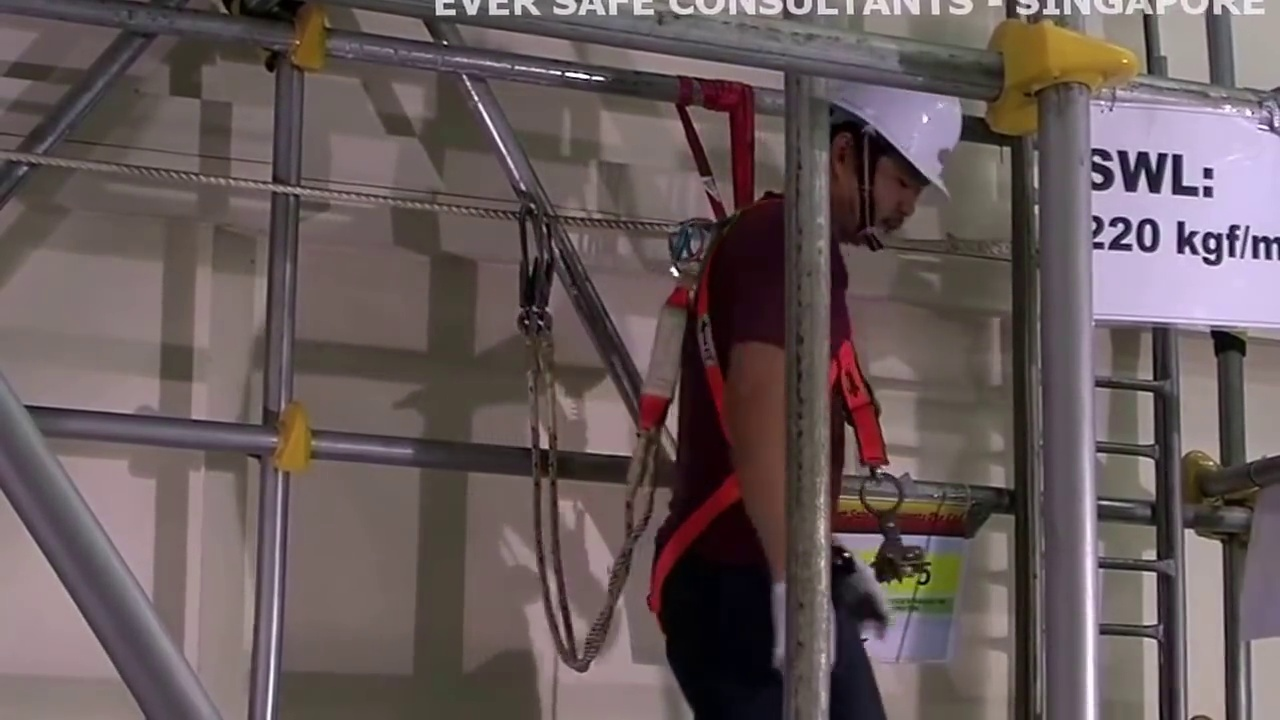harness: (643, 239, 735, 567)
helmet: (830, 90, 964, 160)
hook: (513, 197, 558, 323)
leash: (517, 337, 643, 659)
